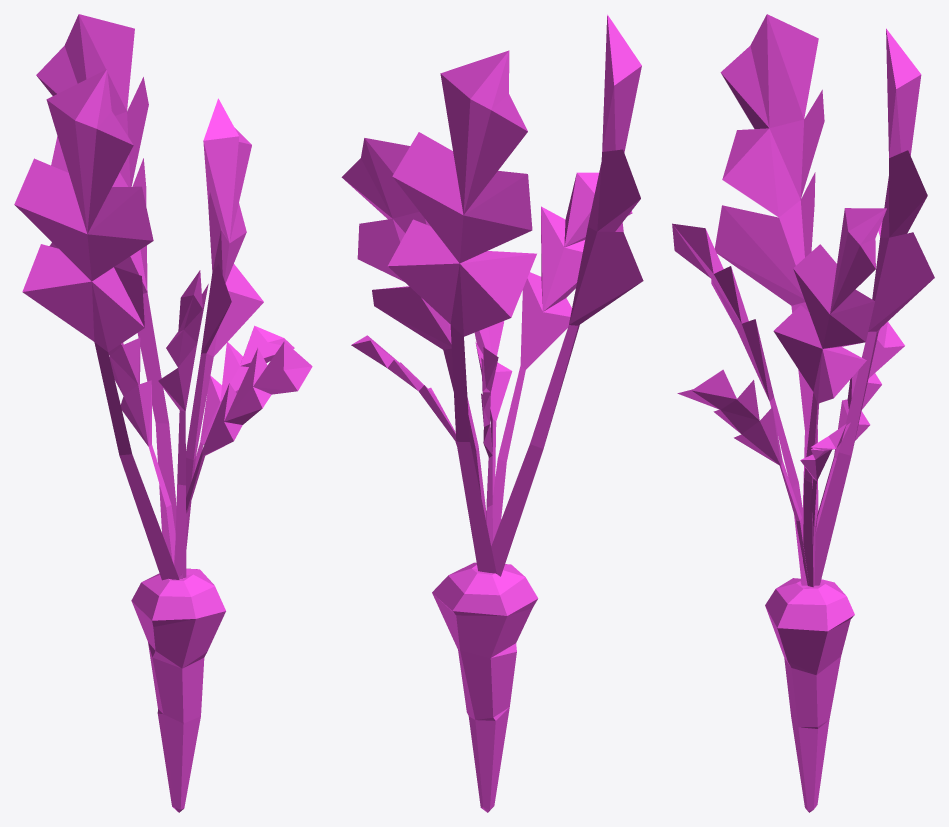
File: SM_Parsnip_Plant_Ripe_Root_A.fbx
The picture shows the model from 3 angles, left to right: view 1: azimuth 30°, elevation 25°; view 2: azimuth 150°, elevation 25°; view 3: azimuth 270°, elevation 25°; orthographic projection. The views are drawn at different scales.
Parts seen in each view (by area): view 1: SM_Parsnip_Plant_Ripe_Root_A; view 2: SM_Parsnip_Plant_Ripe_Root_A; view 3: SM_Parsnip_Plant_Ripe_Root_A.
Boxes of the visible parts, x1,y1,x2,y2 form: SM_Parsnip_Plant_Ripe_Root_A: (14,14,312,812); SM_Parsnip_Plant_Ripe_Root_A: (341,14,643,812); SM_Parsnip_Plant_Ripe_Root_A: (672,14,934,812).
Size of the model in its own units: 0.3697 by 1 by 0.3162.
